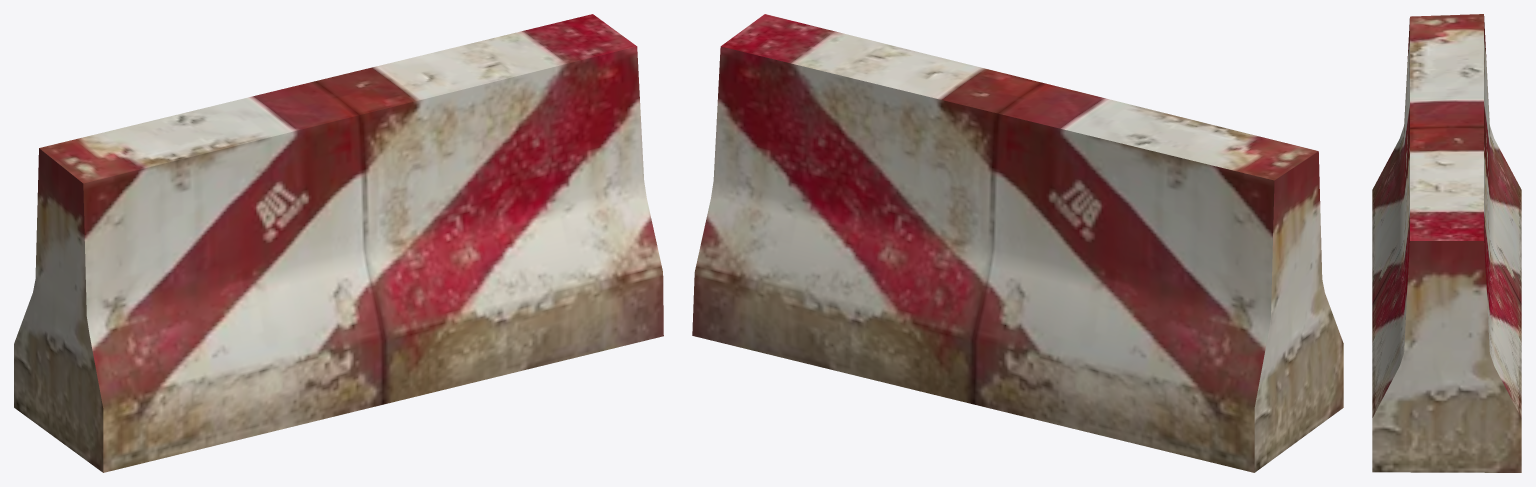
The model's file is mb-roadblock.lod0.glb.
The picture shows the model from 3 angles, left to right: view 1: azimuth 30°, elevation 25°; view 2: azimuth 150°, elevation 25°; view 3: azimuth 270°, elevation 25°; orthographic projection. The views are drawn at different scales.
Visible parts, largest first — view 1: roadblock1_roadblock1_0; view 2: roadblock1_roadblock1_0; view 3: roadblock1_roadblock1_0.
Boxes of the visible parts, <box> form: roadblock1_roadblock1_0: <box>14,14,663,472</box>; roadblock1_roadblock1_0: <box>692,14,1343,472</box>; roadblock1_roadblock1_0: <box>1372,14,1521,472</box>.
Bounding box in the file's own units: 1.92 × 0.8999 × 0.528.
Materials: 1 (1 with a texture image).
